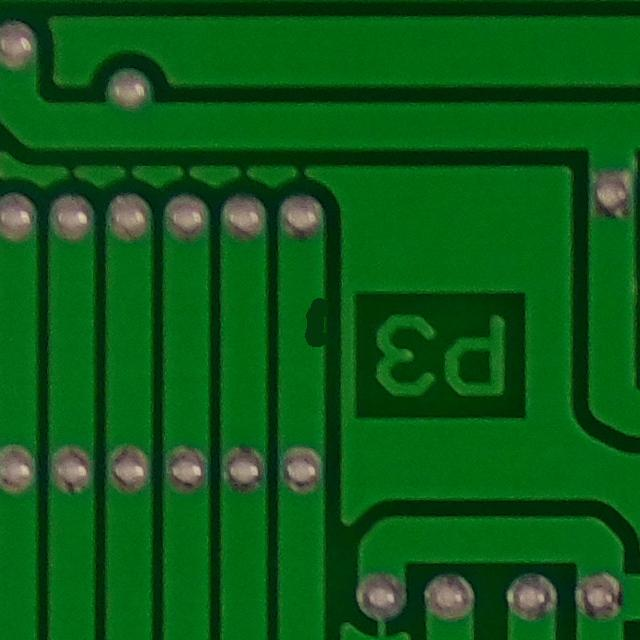mouse_bite: (294, 281, 347, 359)
